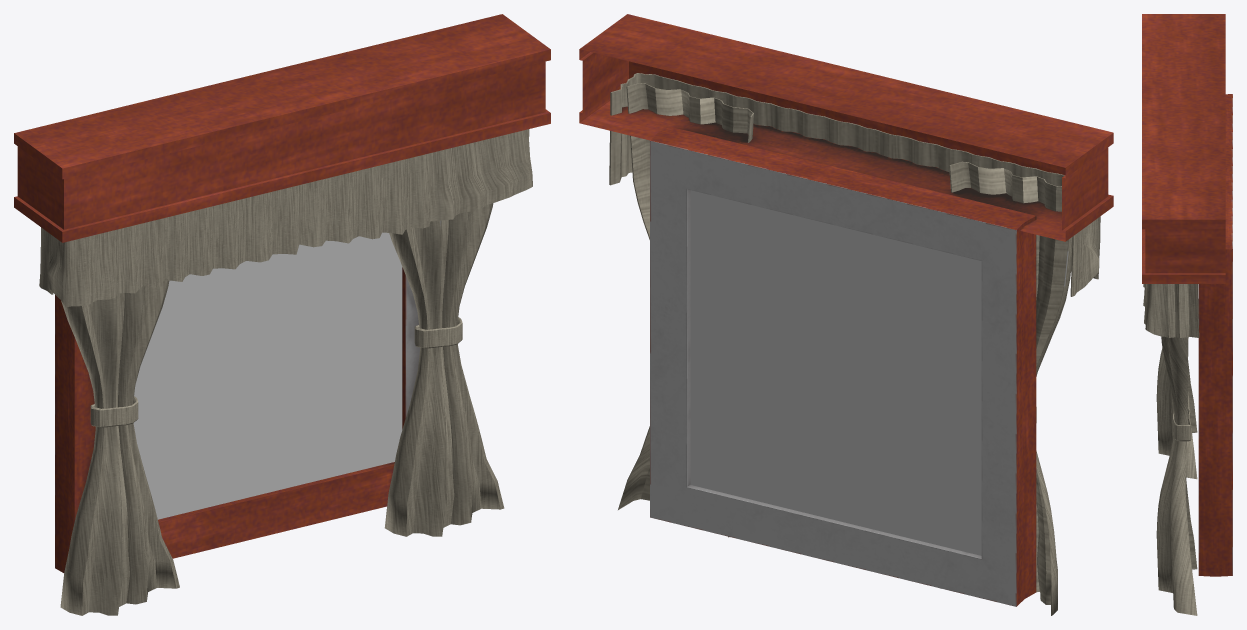
File: SM_Mini_Long_Window.fbx
3 renders of one model, left to right at view 1: azimuth 30°, elevation 25°; view 2: azimuth 150°, elevation 25°; view 3: azimuth 270°, elevation 25°, orthographic. The views are drawn at different scales.
Visible parts, largest first — view 1: SM_Mini_Long_Window; view 2: SM_Mini_Long_Window; view 3: SM_Mini_Long_Window.
Boxes of the visible parts, bbox=[...] form: SM_Mini_Long_Window: bbox=[14, 14, 550, 615]; SM_Mini_Long_Window: bbox=[579, 14, 1113, 615]; SM_Mini_Long_Window: bbox=[1142, 14, 1232, 615].
Size of the model in its own units: 107 by 20.05 by 98.96.
2 materials, 1 textured.
